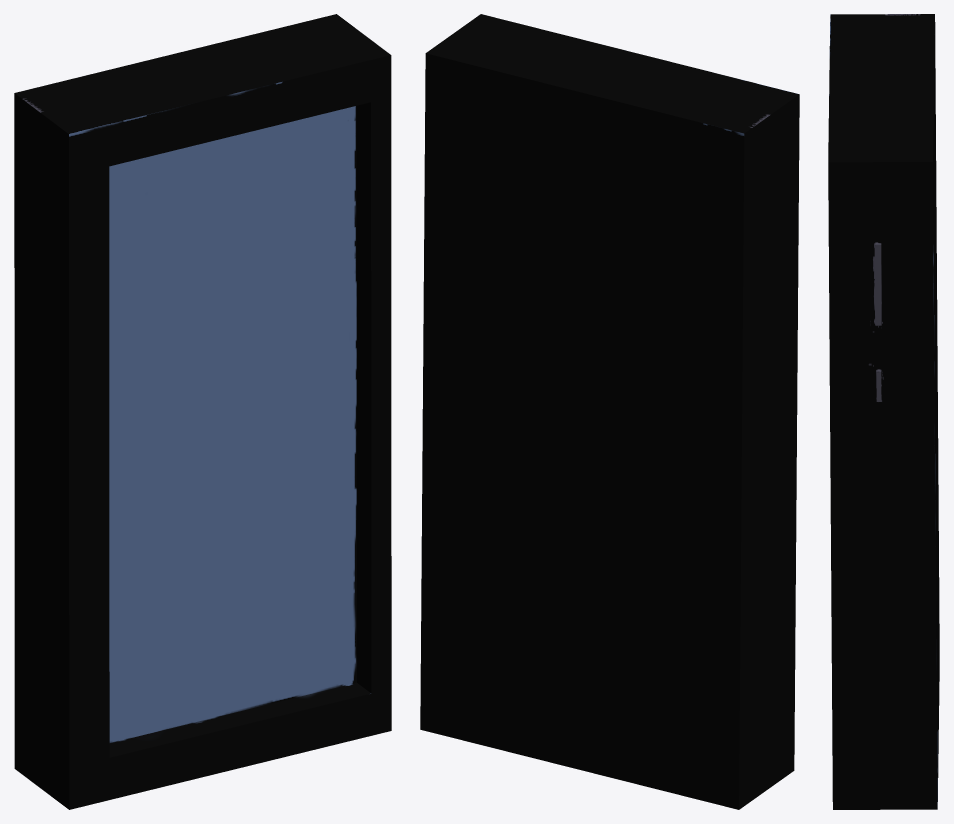
Rendered from phone.fbx.
3 renders of one model, left to right at view 1: azimuth 30°, elevation 25°; view 2: azimuth 150°, elevation 25°; view 3: azimuth 270°, elevation 25°, orthographic. The views are drawn at different scales.
Visible parts, largest first — view 1: Kocka; view 2: Kocka; view 3: Kocka.
Part boxes in pixels (x1,y1,x2,y2): Kocka: [14, 14, 391, 809]; Kocka: [420, 14, 799, 809]; Kocka: [828, 14, 939, 809].
Bounding box in the file's own units: 58.42 × 116 × 18.12.
1 material, 1 textured.
